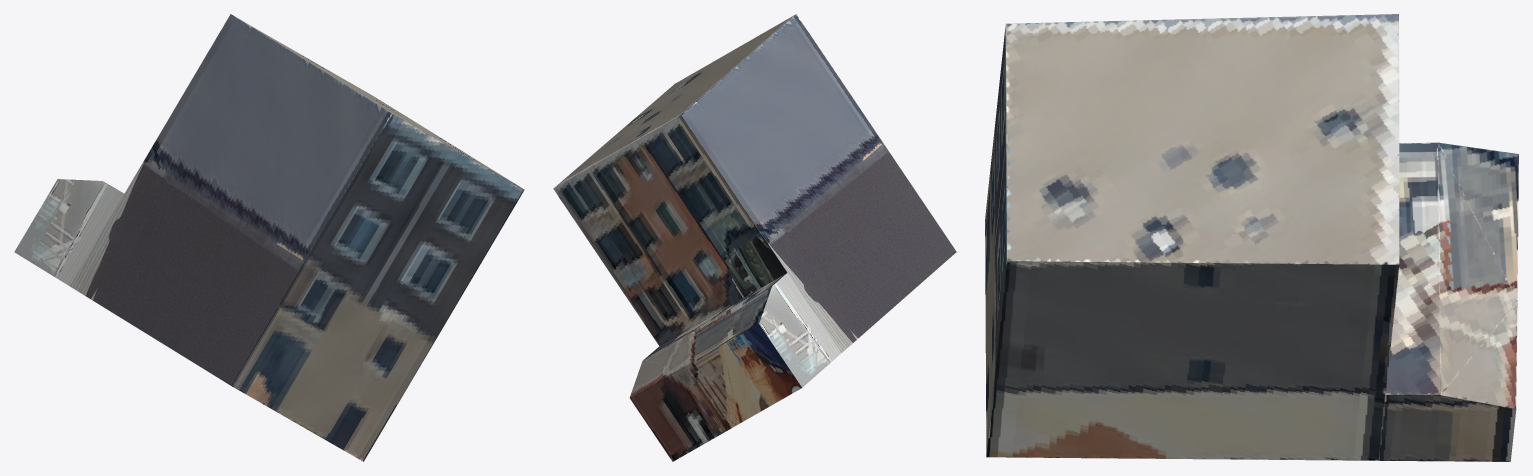
The picture shows the model from 3 angles, left to right: view 1: azimuth 30°, elevation 25°; view 2: azimuth 150°, elevation 25°; view 3: azimuth 270°, elevation 25°; orthographic projection. The views are drawn at different scales.
Visible parts, largest first — view 1: BAG_0599100000767287 (×4); view 2: BAG_0599100000767287 (×4); view 3: BAG_0599100000767287 (×4).
Part boxes in pixels (bbox=[...]): BAG_0599100000767287 (×4): bbox=[14, 14, 524, 461]; BAG_0599100000767287 (×4): bbox=[553, 14, 956, 461]; BAG_0599100000767287 (×4): bbox=[985, 14, 1518, 461].
Bounding box in the file's own units: 17.04 × 17.26 × 17.73.
1 material, 1 textured.
